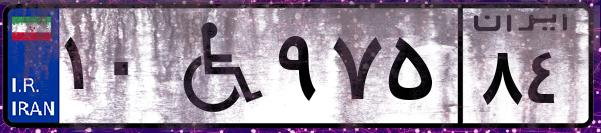0: (110, 28, 158, 98)
1: (57, 26, 110, 100)
4: (525, 38, 570, 115)
5: (385, 28, 445, 110)
7: (330, 28, 385, 110)
8: (475, 38, 525, 113)
9: (270, 28, 330, 110)
ژ (معلولین و جانبازان): (158, 12, 270, 120)
